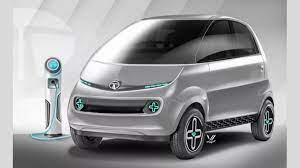Nano: (67, 15, 275, 161)
